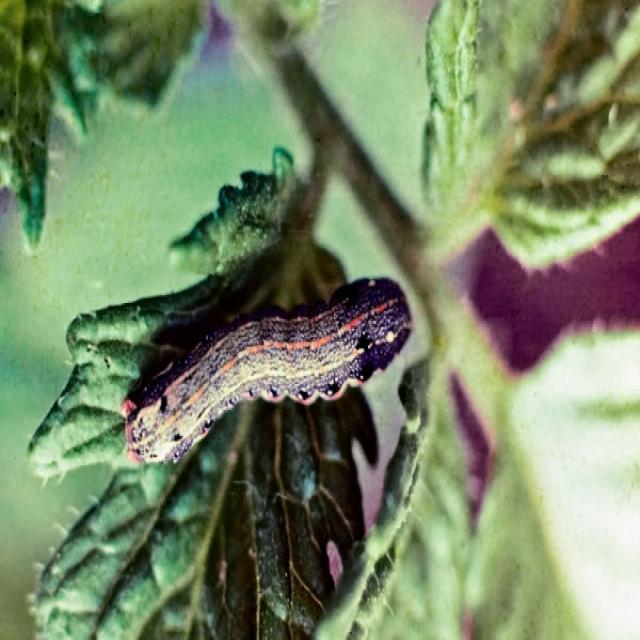Cutworm: (124, 281, 414, 494)
